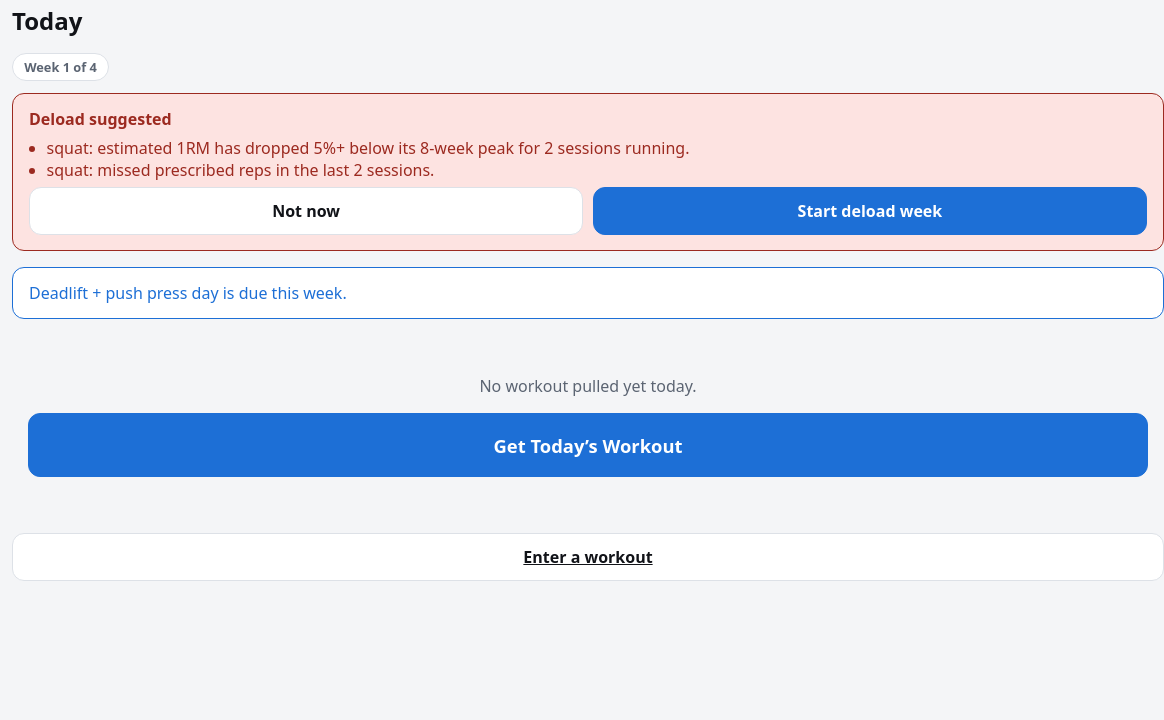
Test: Today page — deload banner (SPEC 9.6/9.9) › "Start deload week" accepts the deload and switches the cycle chip
What coordinates should you click on to do the following:
click the button "Start deload week"
I would click on:
 (870, 211)
Its box is [593,187,1147,235].
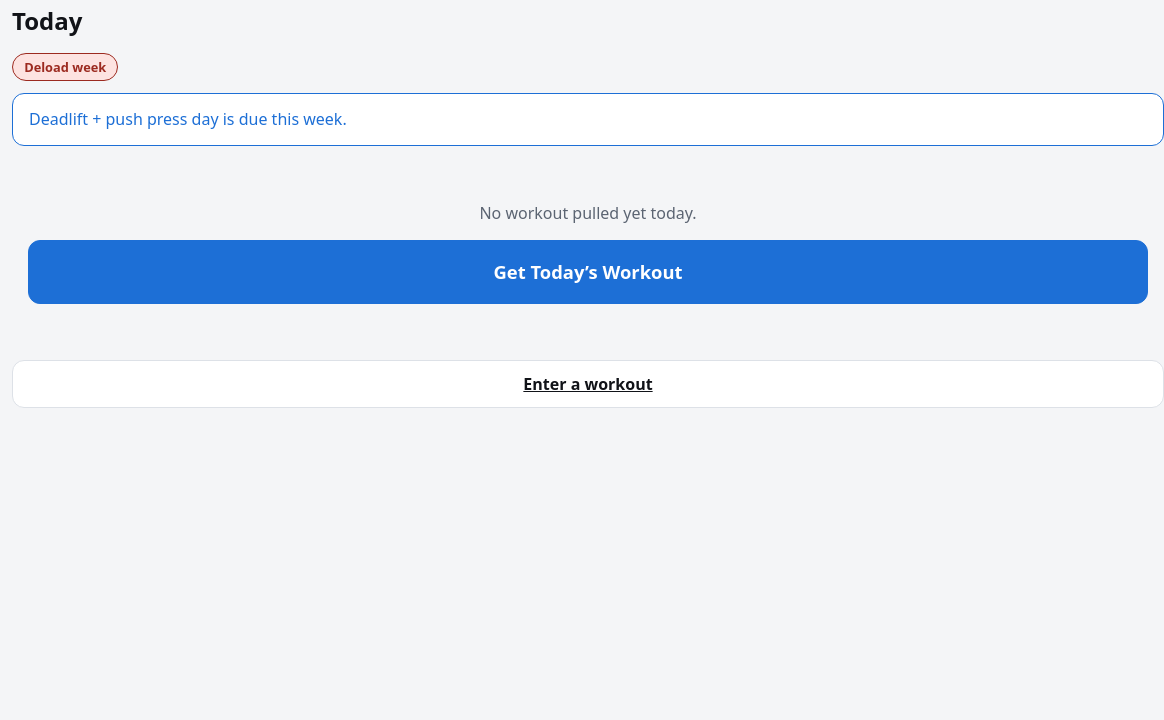
Check: the link "Deload week" is shown, box [12,53,118,81]
